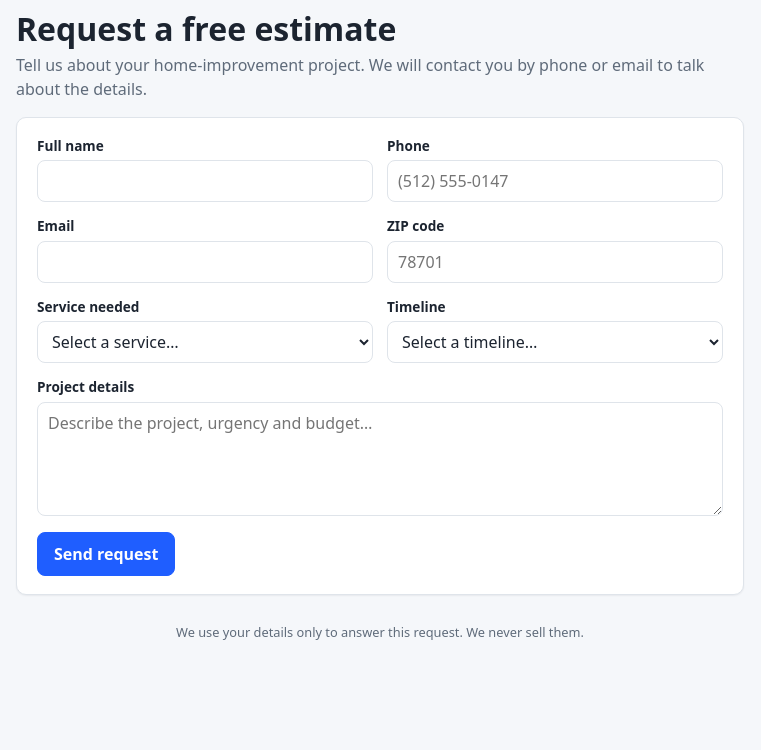
public request page › invalid input → field errors from the shared schema, nothing sent
This screenshot has width=761, height=750.
What coordinates should you click on to do the following:
click the button "Send request"
I would click on:
 (106, 554)
Its box is [37, 532, 176, 576].
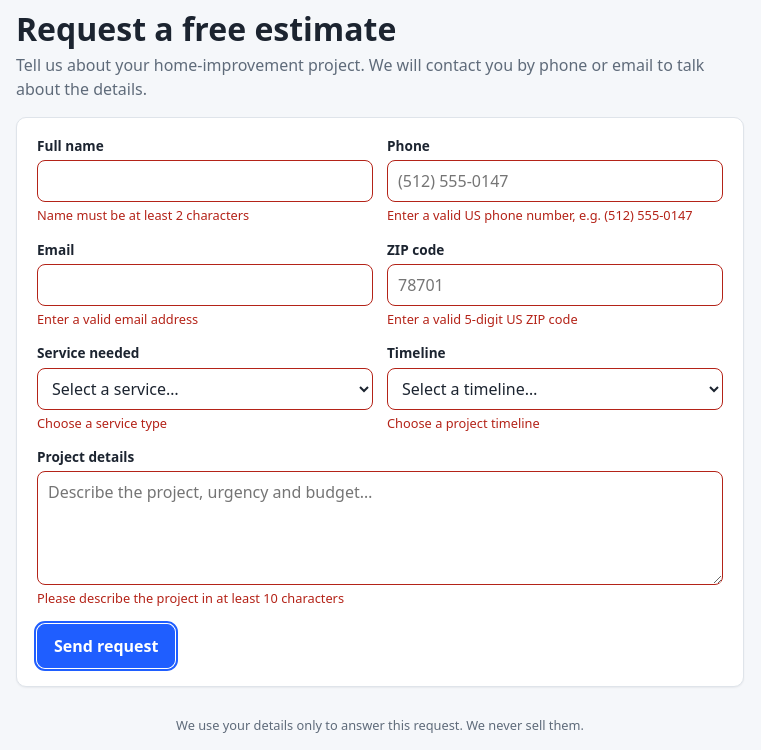
Expected: the text "Name must be at least 2 characters" is shown, [37, 206, 249, 224]
